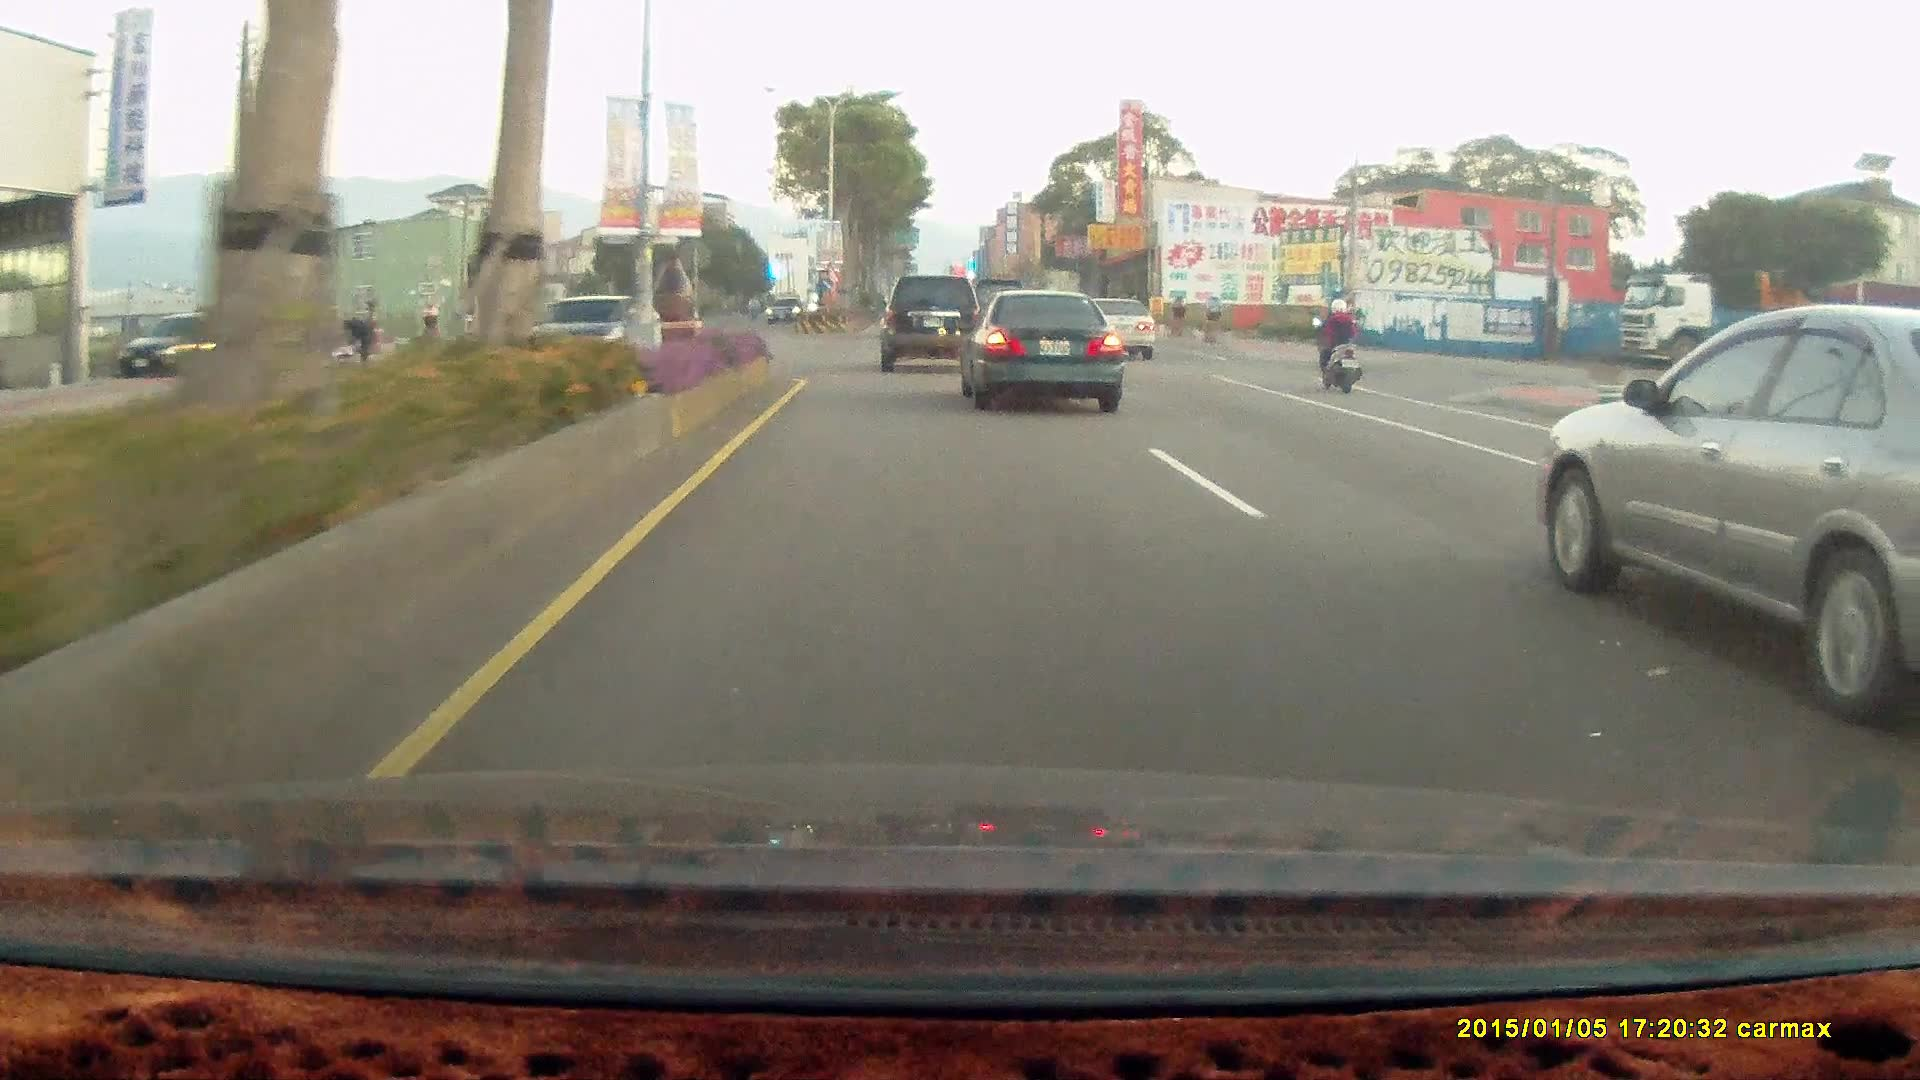pedestrian: (339, 314, 373, 363)
rider: (1303, 290, 1372, 403), (1308, 292, 1364, 389)
vehicle: (1537, 304, 1920, 728), (1617, 271, 1920, 370), (949, 290, 1116, 412), (965, 294, 1129, 415), (880, 274, 987, 374), (529, 288, 651, 374), (879, 274, 982, 371), (533, 289, 638, 375), (110, 311, 223, 380), (117, 313, 229, 379), (1075, 296, 1160, 362), (763, 297, 808, 325), (765, 295, 805, 323)
